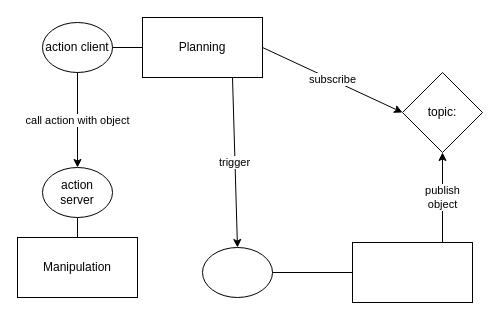
This 500x320 diagram has some shape labels left out. Here are the shapes that lost their labels. From the top down, the centre of each, then its label:
the point at 237,272: perception pipeline
the point at 412,272: Perception
